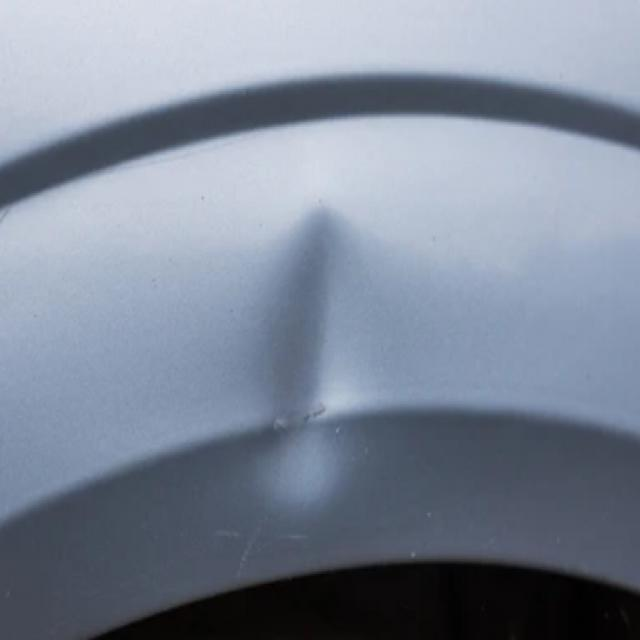dents: (232, 182, 388, 526)
